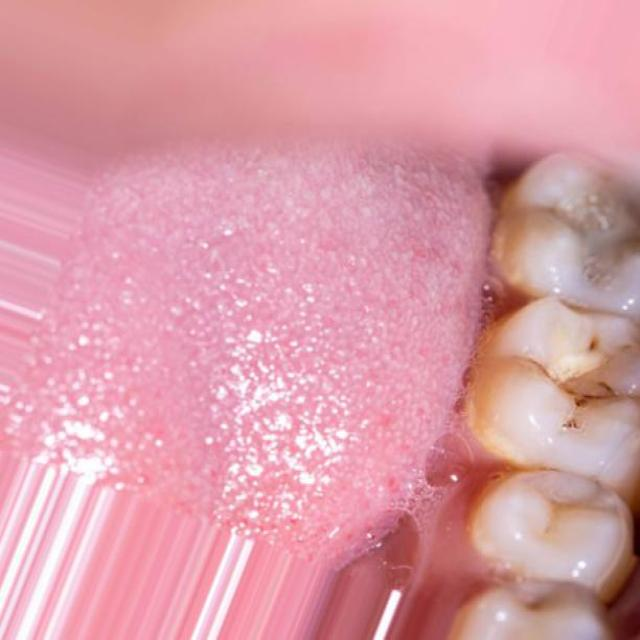caries: (521, 319, 628, 452), (540, 174, 640, 296)
